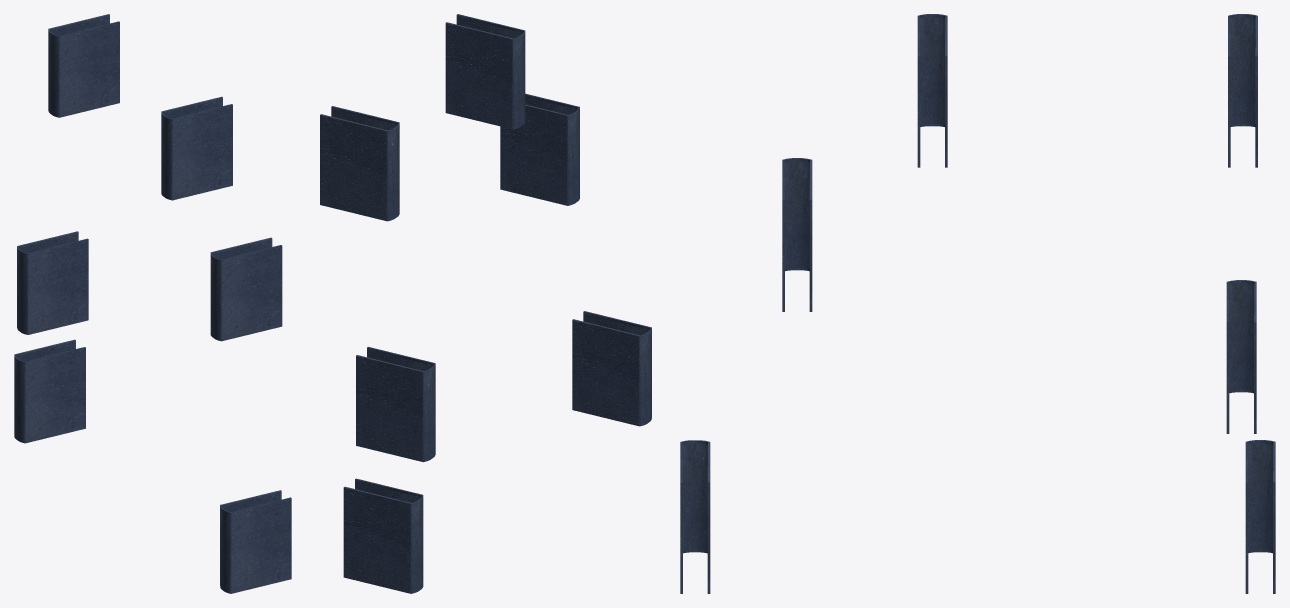
File: book007Scaffale.fbx
The picture shows the model from 3 angles, left to right: view 1: azimuth 30°, elevation 25°; view 2: azimuth 150°, elevation 25°; view 3: azimuth 270°, elevation 25°; orthographic projection. The views are drawn at different scales.
Parts seen in each view (by area): view 1: Cube.056_book.007_0; view 2: Cube.056_book.007_0; view 3: Cube.056_book.007_0.
Boxes of the visible parts, left/top/right/bottom form: Cube.056_book.007_0: left=14, top=14, right=291, bottom=593; Cube.056_book.007_0: left=320, top=14, right=651, bottom=593; Cube.056_book.007_0: left=680, top=14, right=1275, bottom=593.
Size of the model in its own units: 42.86 by 174 by 169.
